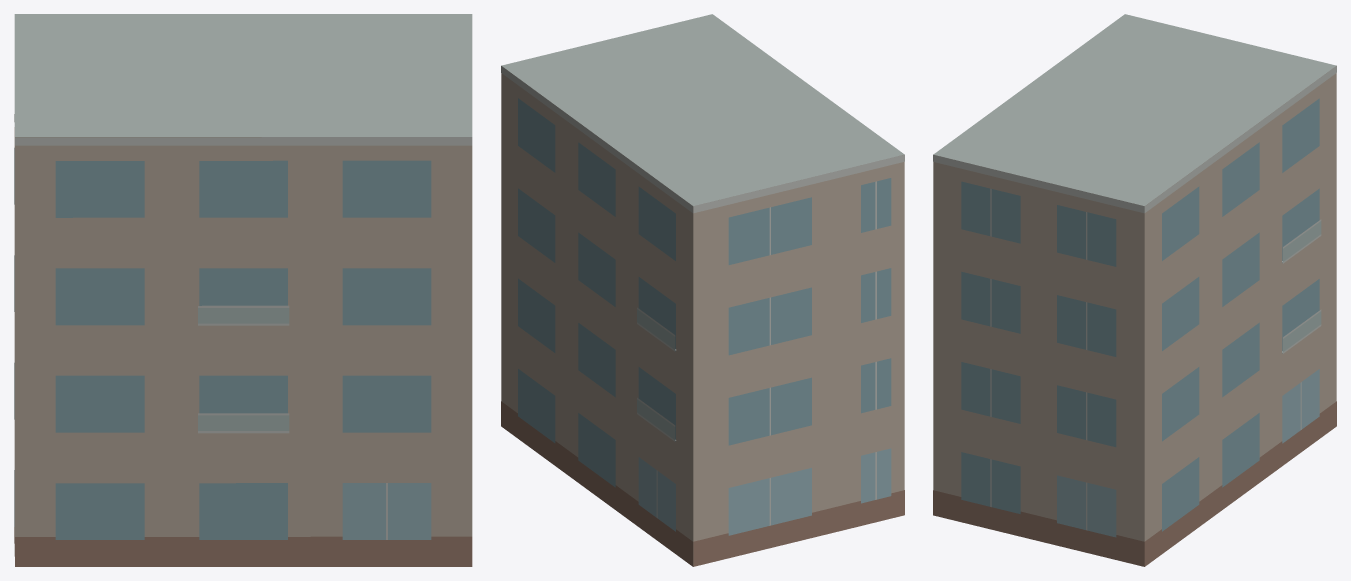
The model's file is residential-83af2e73-5c35-4448-a4ab-b804df8b0971.glb.
3 views of the same model, side by side, from view 1: azimuth 30°, elevation 25°; view 2: azimuth 150°, elevation 25°; view 3: azimuth 270°, elevation 25° (orthographic). The views are drawn at different scales.
Parts seen in each view (by area): view 1: residential-83af2e73-5c35-4448-a4ab-b804df8b0971.tmp; view 2: residential-83af2e73-5c35-4448-a4ab-b804df8b0971.tmp; view 3: residential-83af2e73-5c35-4448-a4ab-b804df8b0971.tmp.
Part boxes in pixels (x1,y1,x2,y2): residential-83af2e73-5c35-4448-a4ab-b804df8b0971.tmp: [14, 14, 472, 566]; residential-83af2e73-5c35-4448-a4ab-b804df8b0971.tmp: [501, 14, 904, 566]; residential-83af2e73-5c35-4448-a4ab-b804df8b0971.tmp: [933, 14, 1336, 566].
Size of the model in its own units: 13.95 by 12.2 by 12.38.
